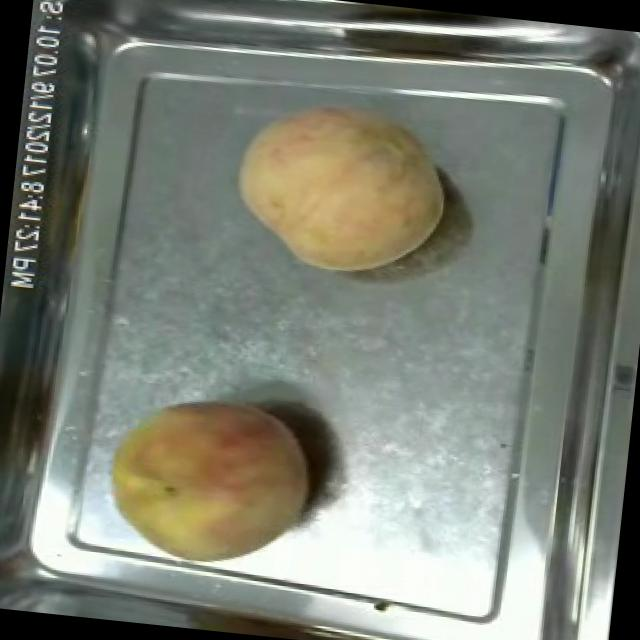Fruit: (216, 80, 460, 290), (88, 378, 326, 584)
